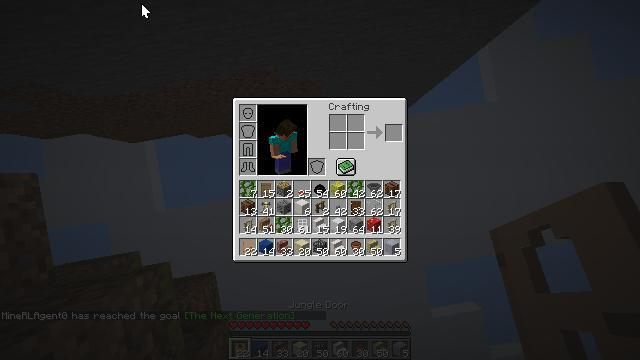cursor: (3, 141, 19, 151)
